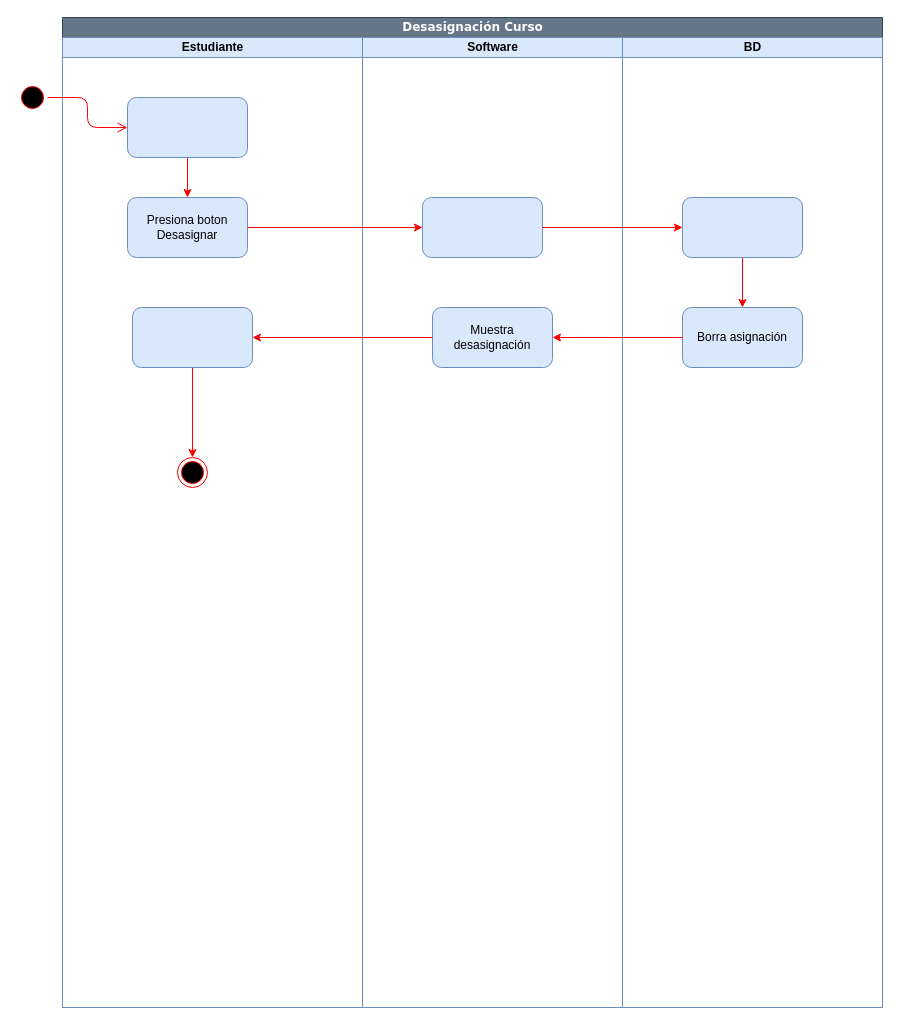
This 900x1025 diagram has some shape labels left out. Each missing label, with the centre of its shape:
"Ingresa al modulo de Cursos Asignados" belongs at [187,127].
"Recibe el query" belongs at [742,227].
"Sistema mada a borrar asignación" belongs at [482,227].
"Visualiza Mensaje exitoso" belongs at [192,337].
